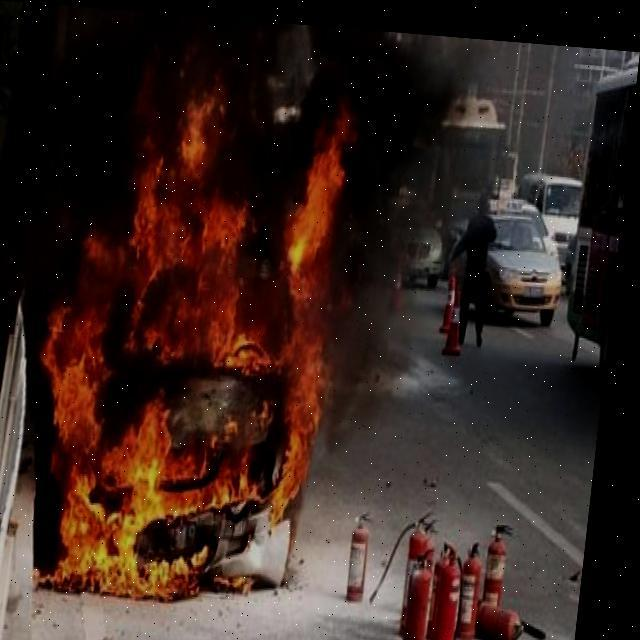Fire: (29, 54, 363, 602)
